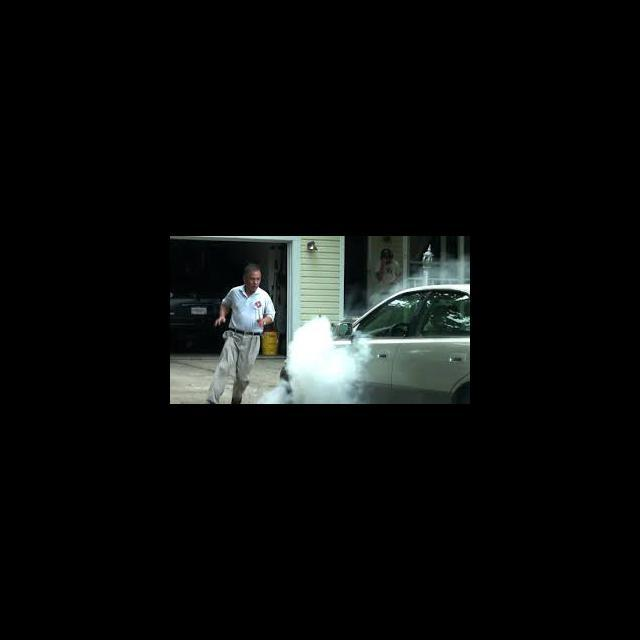Smoke: (255, 315, 375, 403)
